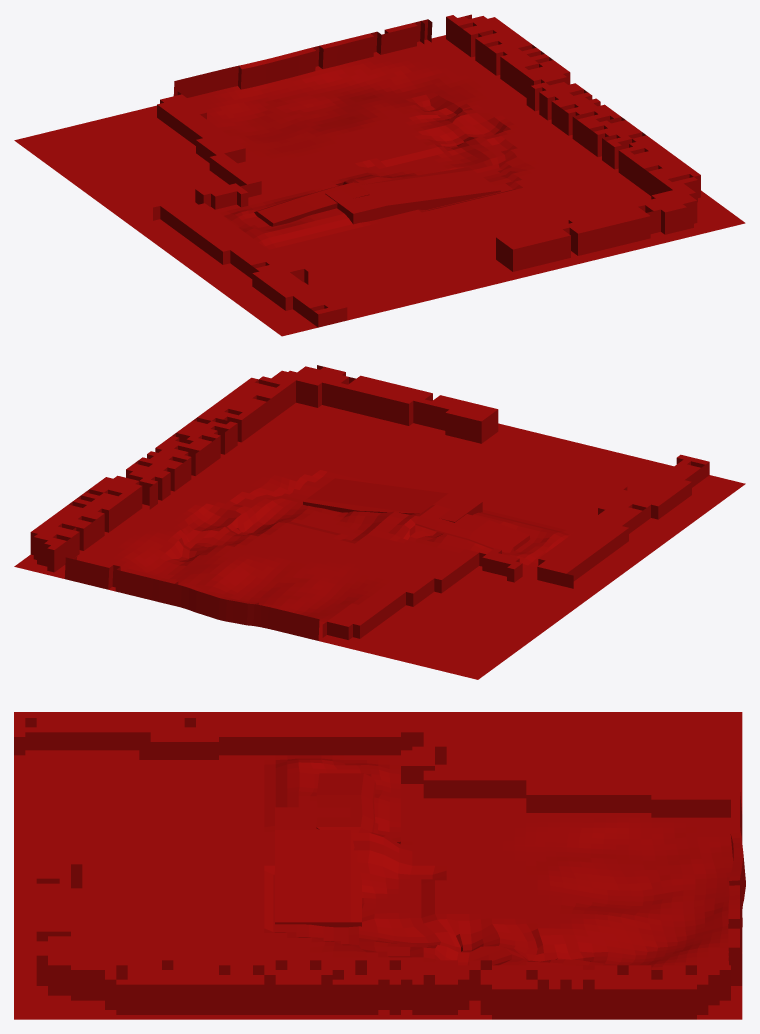
The picture shows the model from 3 angles, top to bottom: view 1: azimuth 30°, elevation 25°; view 2: azimuth 150°, elevation 25°; view 3: azimuth 270°, elevation 25°; orthographic projection. The views are drawn at different scales.
Parts seen in each view (by area): view 1: Plan, Cube.003_Cube.004; view 2: Plan, Cube.003_Cube.004; view 3: Plan, Cube.003_Cube.004.
Part boxes in pixels (x1,y1,x2,y2): Plan: (14, 14, 745, 336); Cube.003_Cube.004: (325, 167, 500, 224); Plan: (14, 365, 745, 679); Cube.003_Cube.004: (303, 478, 482, 522); Plan: (14, 712, 745, 1019); Cube.003_Cube.004: (275, 807, 361, 927).
Size of the model in its own units: 1231 by 87.24 by 1237.
